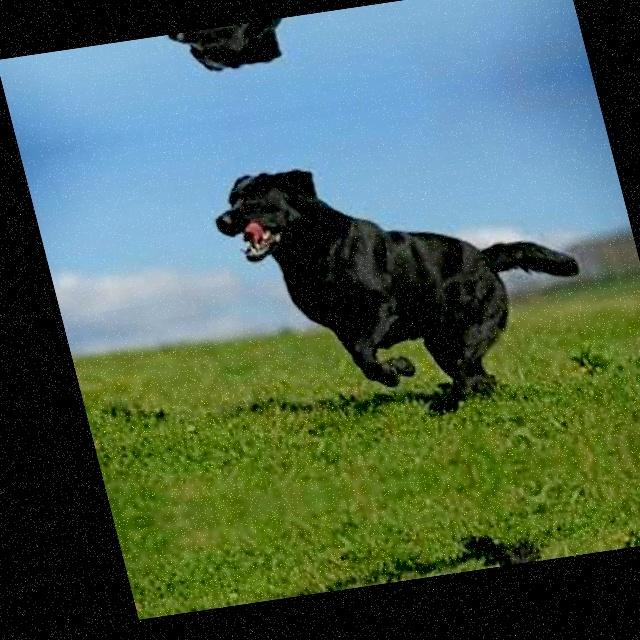dog: (194, 120, 620, 436), (159, 0, 532, 86), (295, 516, 640, 596)
